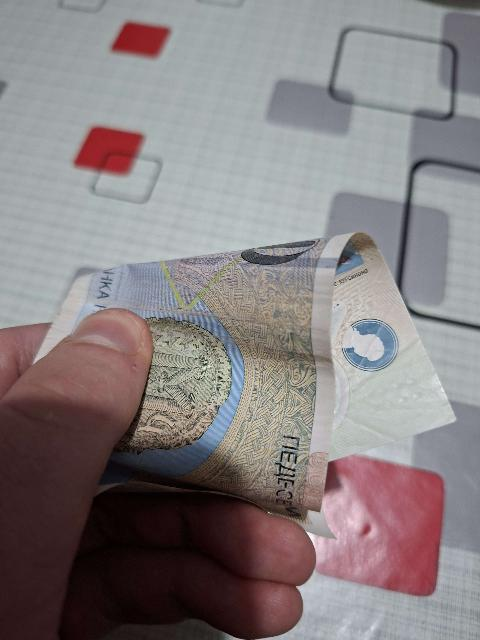50_note: (28, 234, 457, 516)
